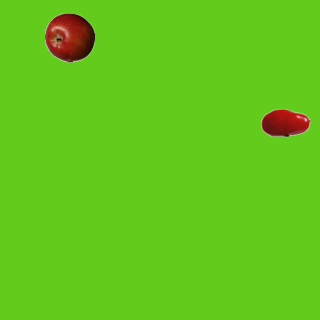Apple Braeburn: (44, 12, 94, 62)
Tomato 2: (260, 97, 310, 147)
